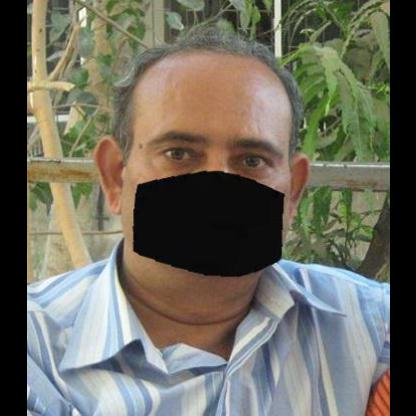Fabric/Cloth Mask: (121, 72, 285, 268)
